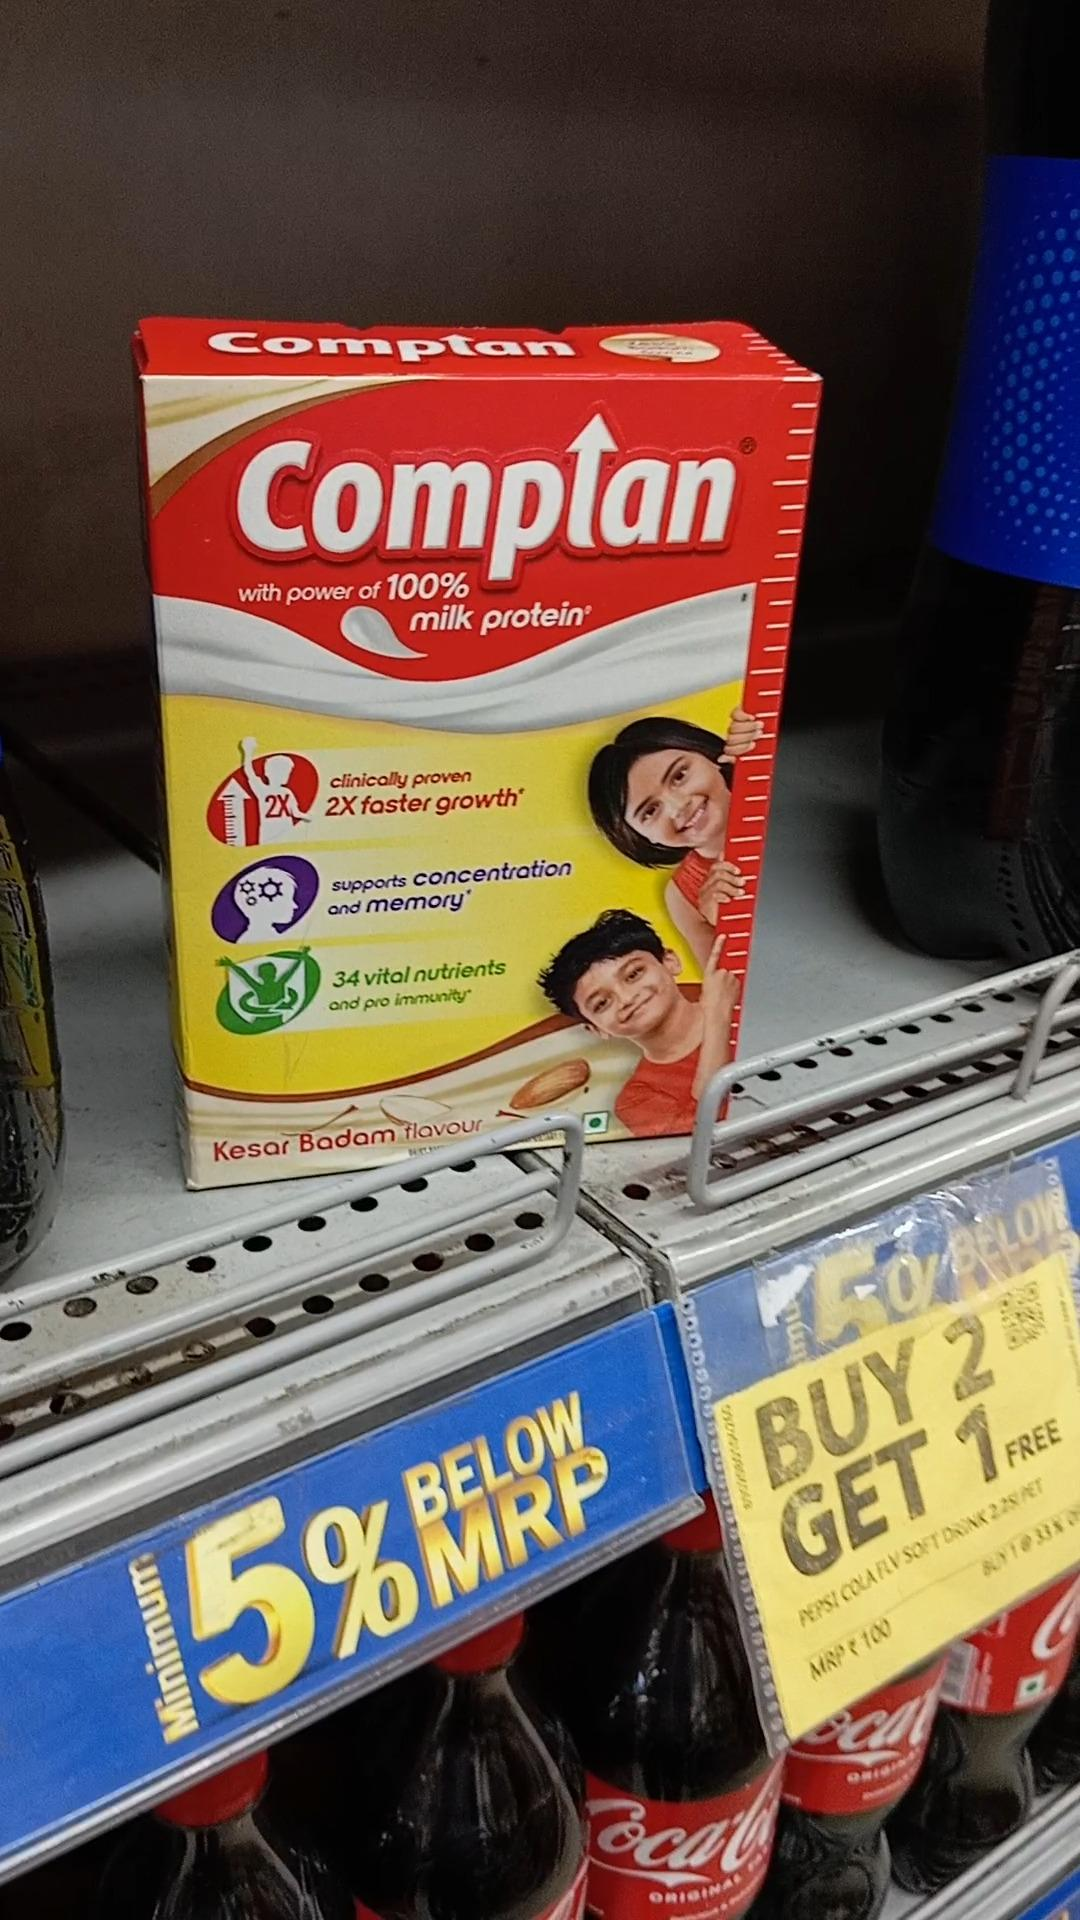COMPLAN_CHOCOLATE_200_GMS_JAR: (189, 359, 741, 1182)
